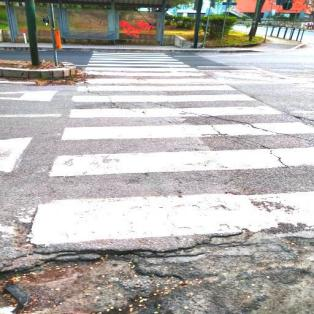Paso de Cebra: (58, 105, 314, 145), (75, 76, 240, 92)
